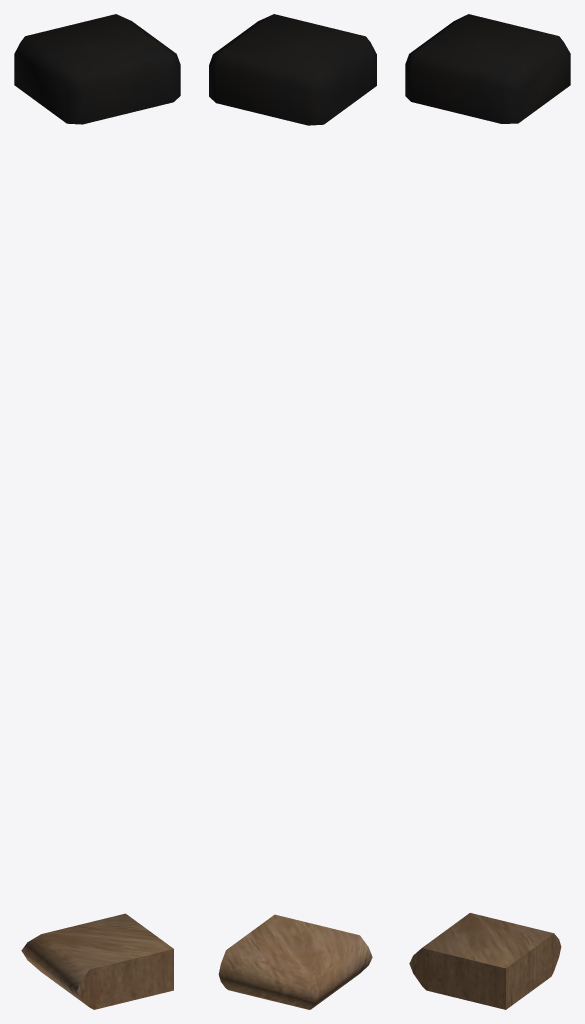
The model's file is SM_Banister_Corner_02.glb.
3 views of the same model, side by side, from view 1: azimuth 30°, elevation 25°; view 2: azimuth 150°, elevation 25°; view 3: azimuth 330°, elevation 25° (orthographic).
Parts seen in each view (by area): view 1: SM_Banister_Corner_02; view 2: SM_Banister_Corner_02; view 3: SM_Banister_Corner_02.
Part boxes in pixels (x1=…): SM_Banister_Corner_02: x1=14, y1=14, x2=180, y2=1009; SM_Banister_Corner_02: x1=209, y1=14, x2=376, y2=1009; SM_Banister_Corner_02: x1=405, y1=14, x2=570, y2=1009.
Size of the model in its own units: 0.1247 by 0.9812 by 0.1178.
1 material, 1 textured.
